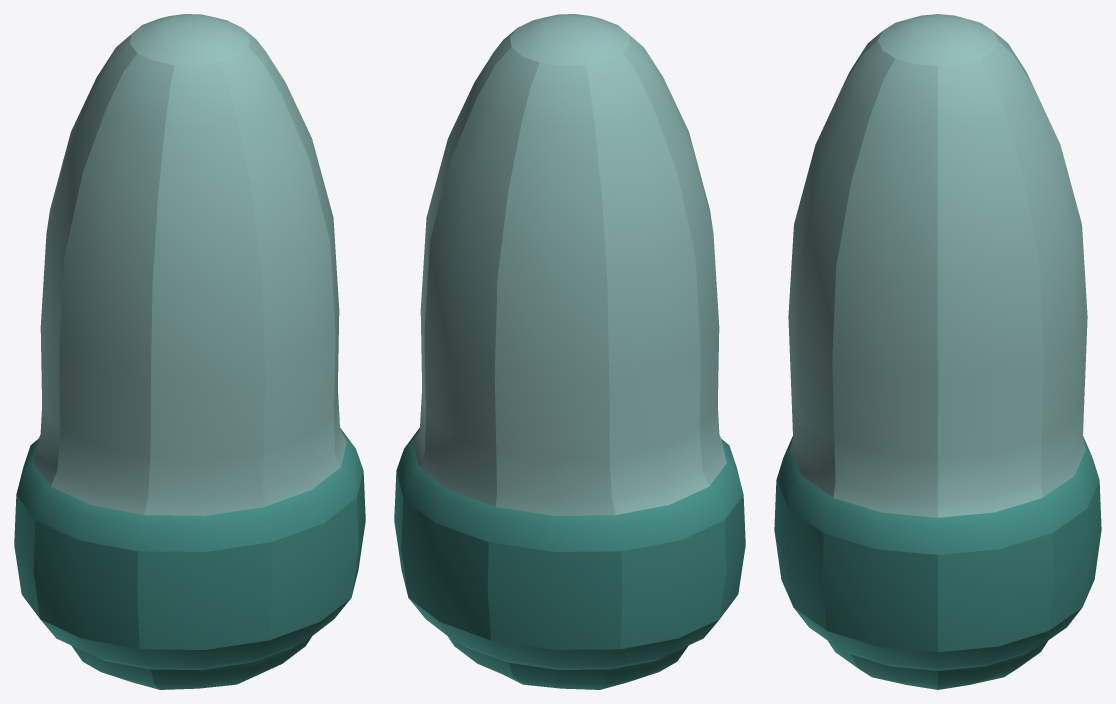
Rendered from Bullet1.fbx.
3 renders of one model, left to right at view 1: azimuth 30°, elevation 25°; view 2: azimuth 150°, elevation 25°; view 3: azimuth 270°, elevation 25°, orthographic.
Visible parts, largest first — view 1: Bullet1; view 2: Bullet1; view 3: Bullet1.
Boxes of the visible parts, bbox=[...] form: Bullet1: bbox=[14, 14, 365, 689]; Bullet1: bbox=[394, 14, 745, 689]; Bullet1: bbox=[774, 14, 1101, 689].
Bounding box in the file's own units: 40.77 × 79.2 × 37.16.
